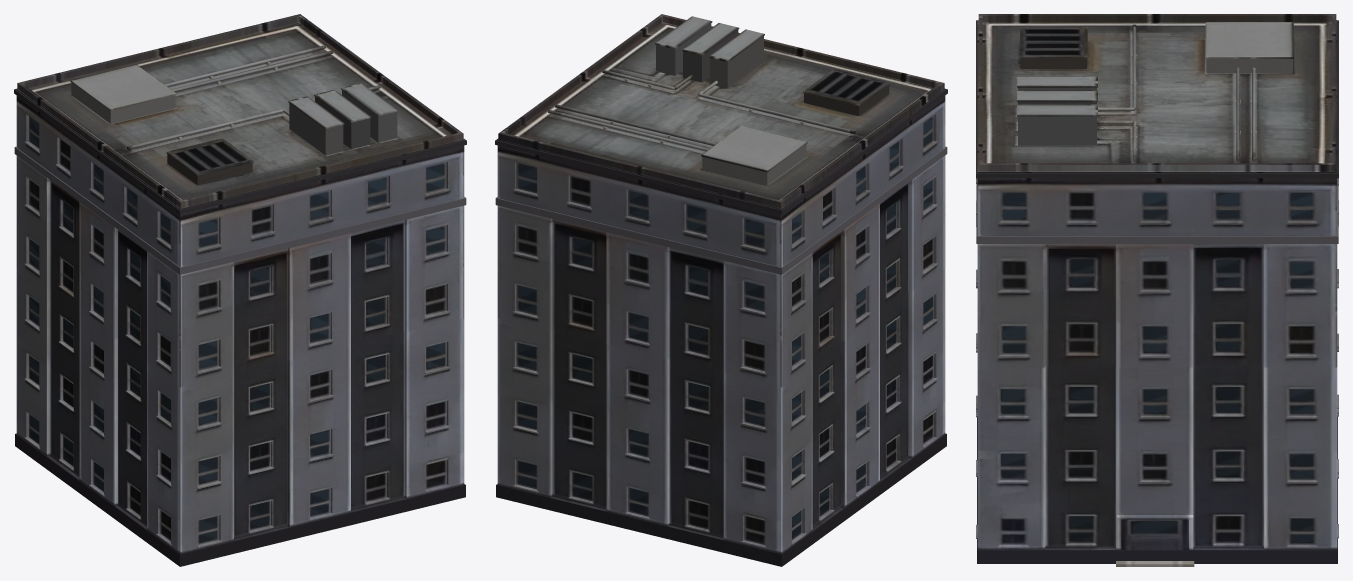
Rendered from city6storyc_cad.glb.
3 views of the same model, side by side, from view 1: azimuth 30°, elevation 25°; view 2: azimuth 150°, elevation 25°; view 3: azimuth 270°, elevation 25° (orthographic). The views are drawn at different scales.
Visible parts, largest first — view 1: CityBlock8Story_A01; view 2: CityBlock8Story_A01; view 3: CityBlock8Story_A01.
Part boxes in pixels (x1,y1,x2,y2): CityBlock8Story_A01: (14,14,466,566); CityBlock8Story_A01: (495,14,947,566); CityBlock8Story_A01: (976,14,1338,566).
Size of the model in its own units: 18.24 by 23.01 by 17.92.
Materials: 1 (1 with a texture image).
